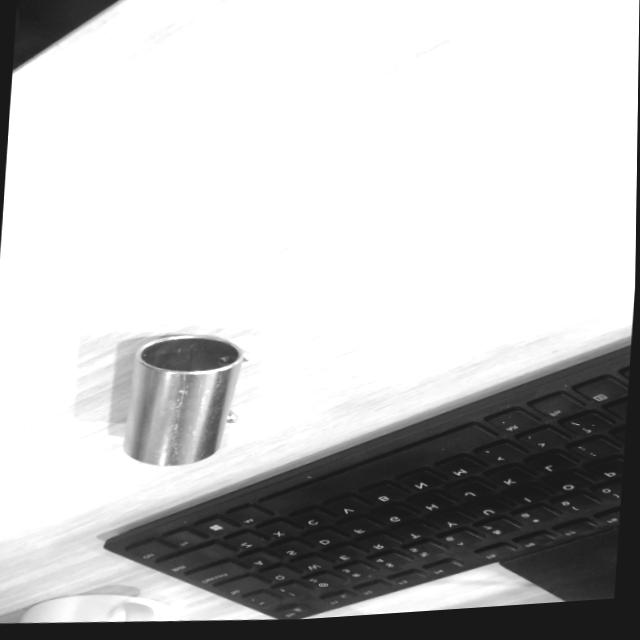Co_Lon: (112, 319, 257, 481)
